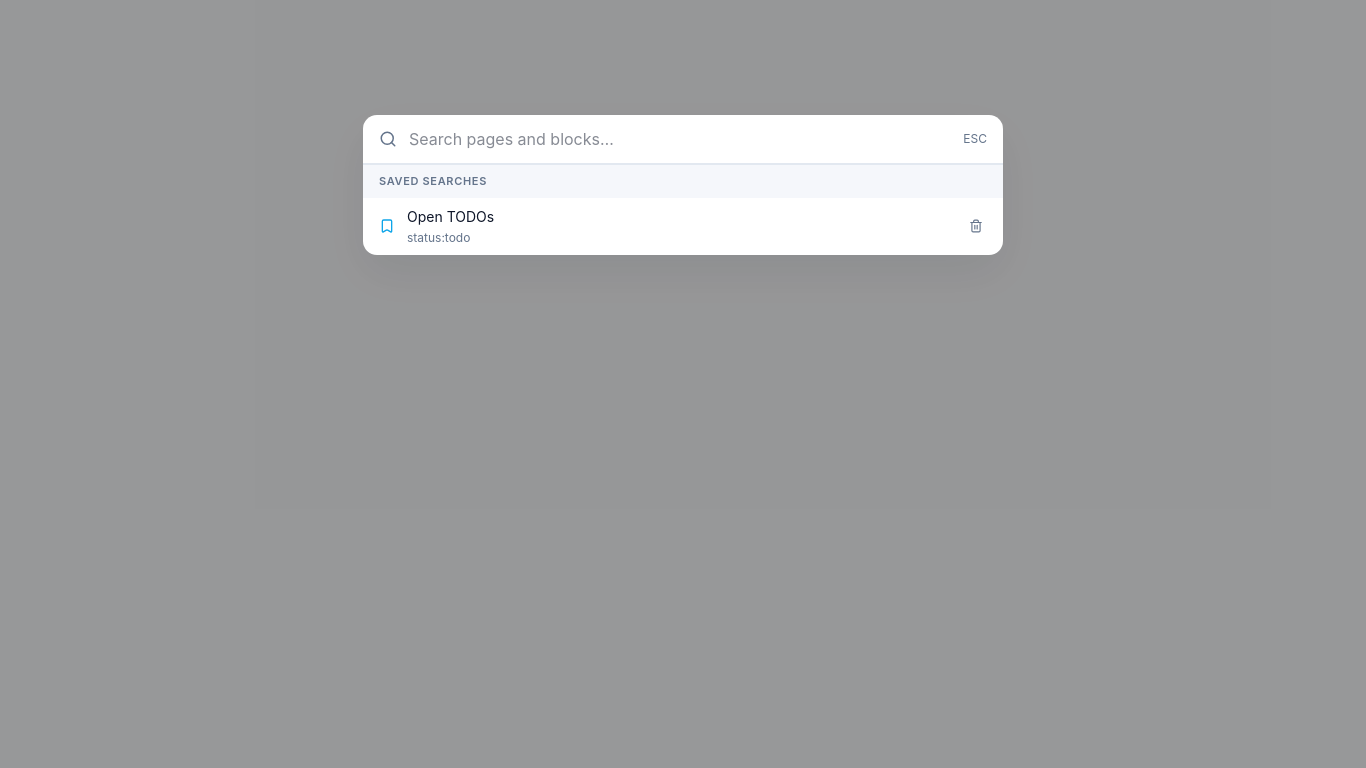
SearchModal — saved searches panel › clicking a saved search re-executes it (puts the saved DSL into the input)
Click the text "Open TODOs". click: (451, 216)
box: [407, 208, 494, 225]
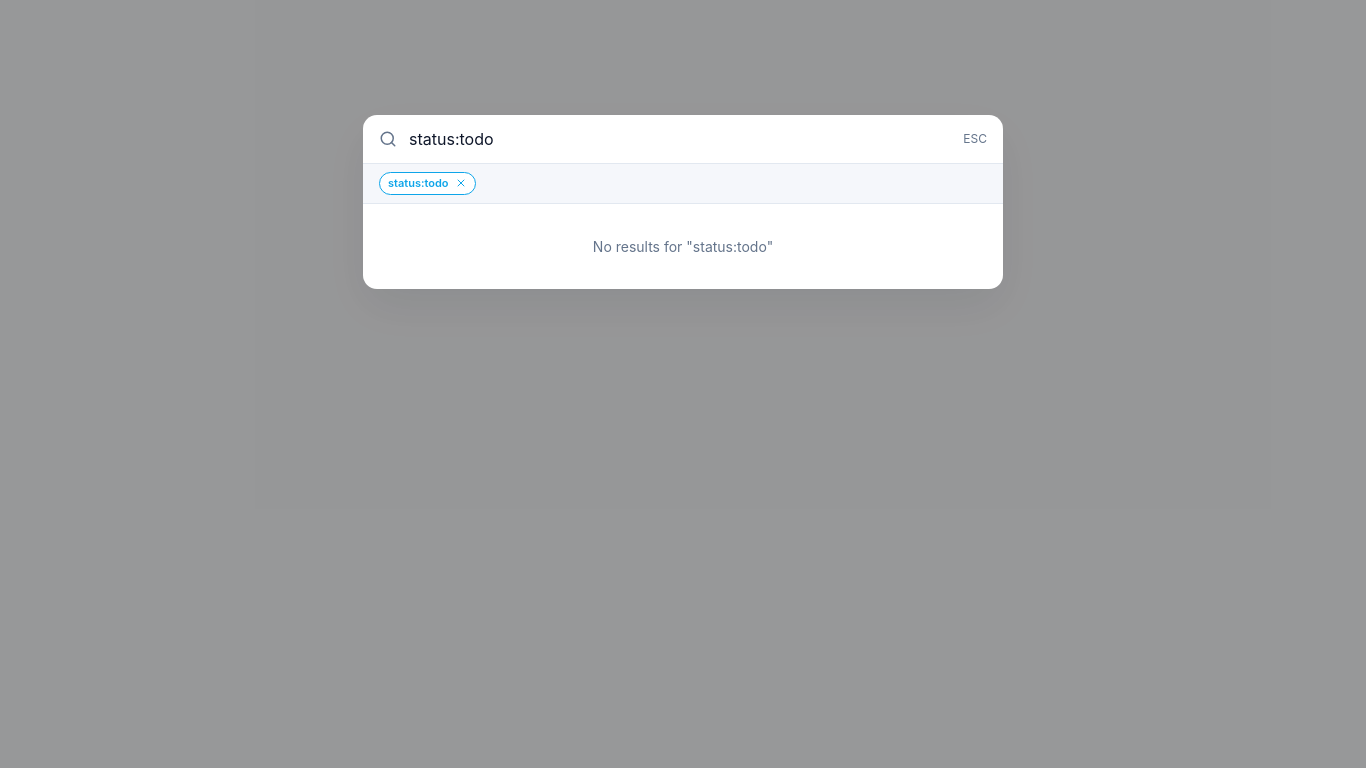
Check: the field with placeholder "Search pages and blocks…" holds "status:todo", box [409, 127, 951, 151]
